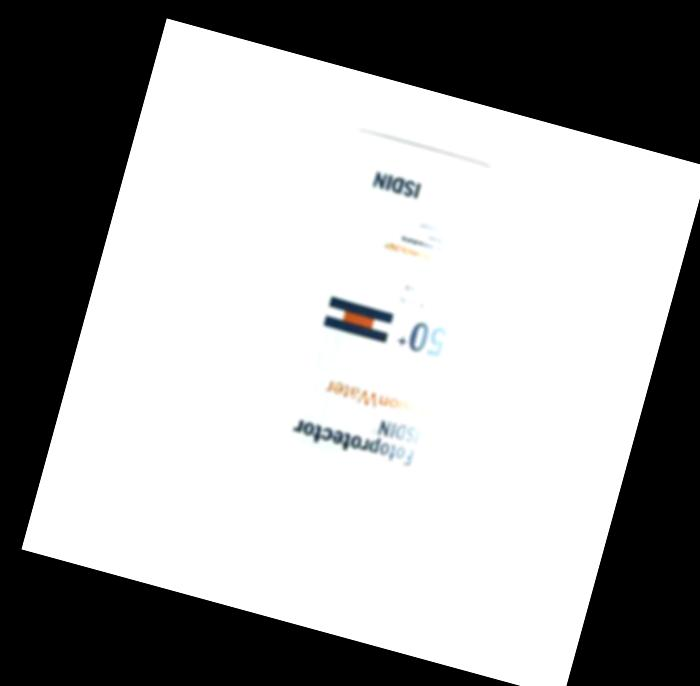cosmetic: (214, 117, 517, 589)
